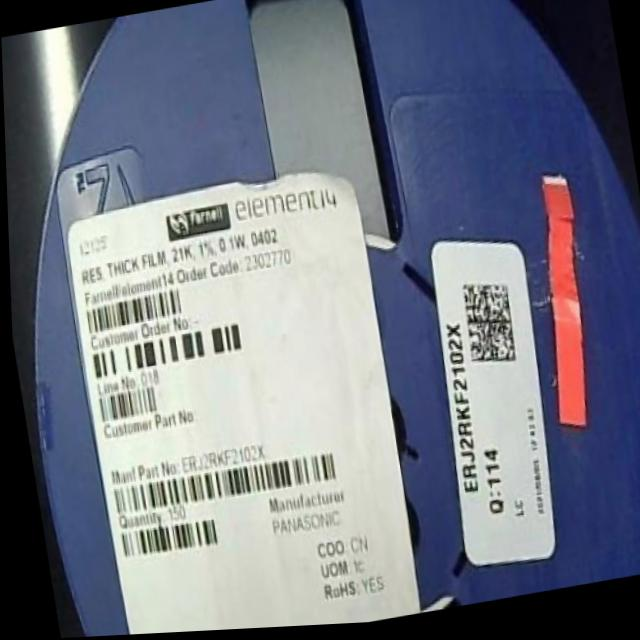datamatrix: (456, 280, 519, 375)
